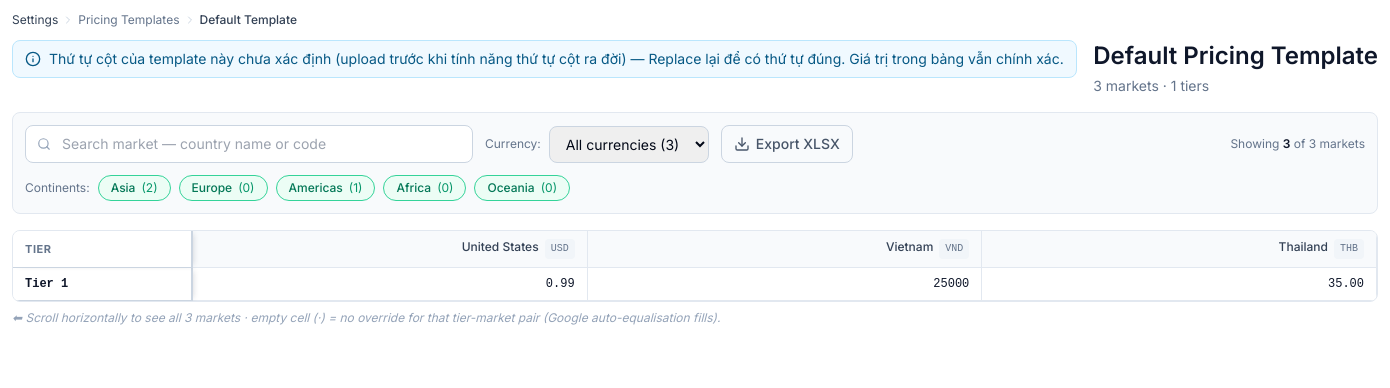
Test: lỗi route hiện ra ĐỌC ĐƯỢC, không nuốt thành toast chung › 404 → 'chưa có template'
The width and height of the screenshot is (1390, 388).
Click the button "Export XLSX" at (787, 144), box x1=721 y1=125 x2=853 y2=163
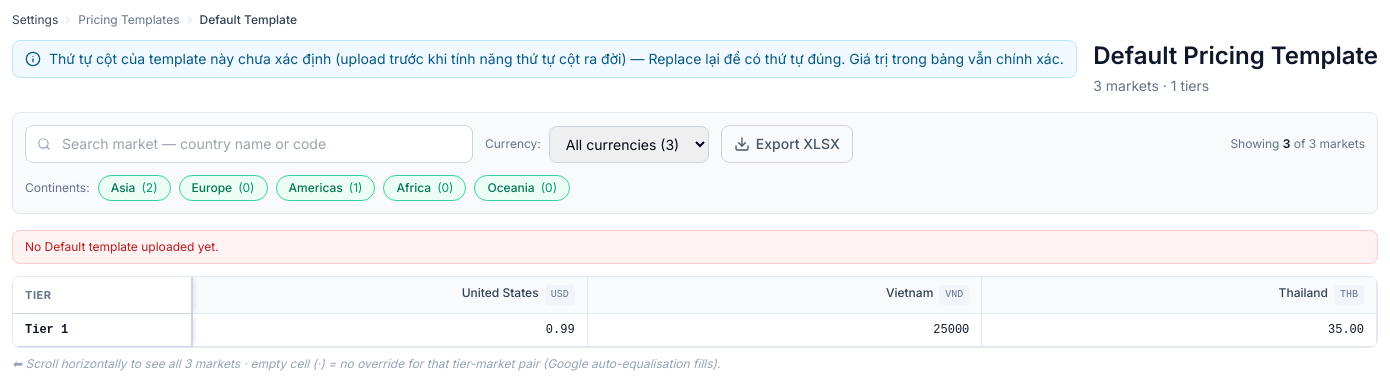
Expected: the message reads "No Default template uploaded yet.", x1=25 y1=239 x2=219 y2=254
